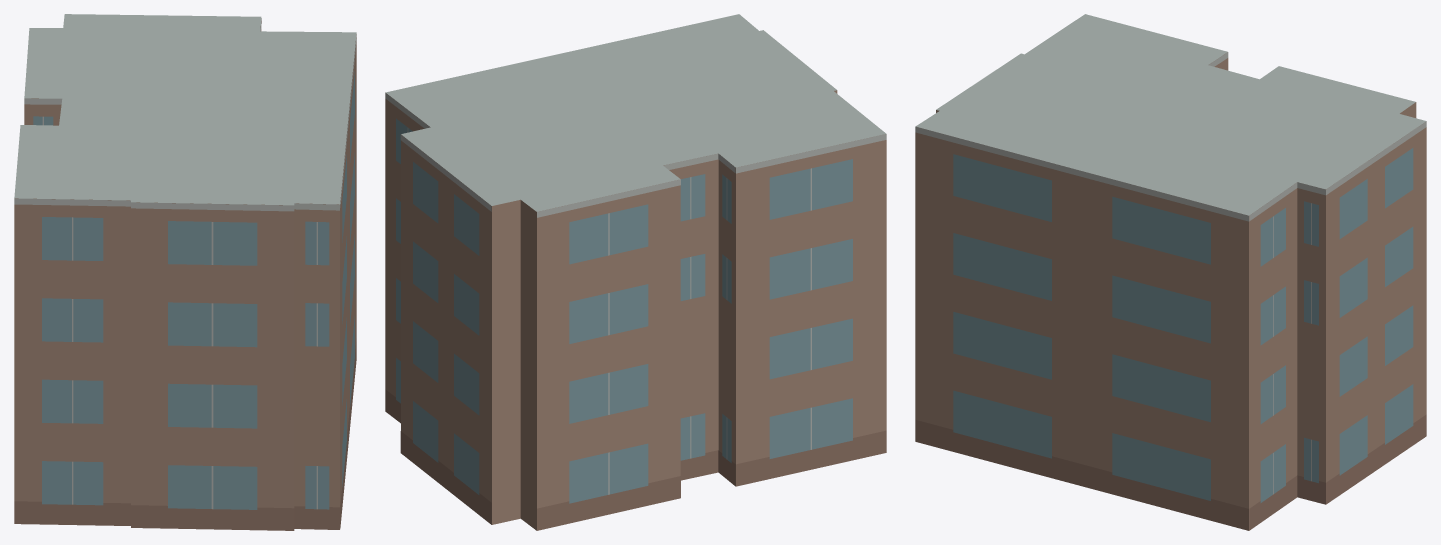
The model's file is survey-upis-32744271.glb.
3 views of the same model, side by side, from view 1: azimuth 30°, elevation 25°; view 2: azimuth 150°, elevation 25°; view 3: azimuth 270°, elevation 25° (orthographic). The views are drawn at different scales.
Parts seen in each view (by area): view 1: survey-upis-32744271.tmp; view 2: survey-upis-32744271.tmp; view 3: survey-upis-32744271.tmp.
Part boxes in pixels (box(x1,y1,x2,y2)): survey-upis-32744271.tmp: box(14, 14, 356, 530); survey-upis-32744271.tmp: box(385, 14, 886, 530); survey-upis-32744271.tmp: box(915, 14, 1426, 530).
Size of the model in its own units: 17.85 by 13 by 19.12.
